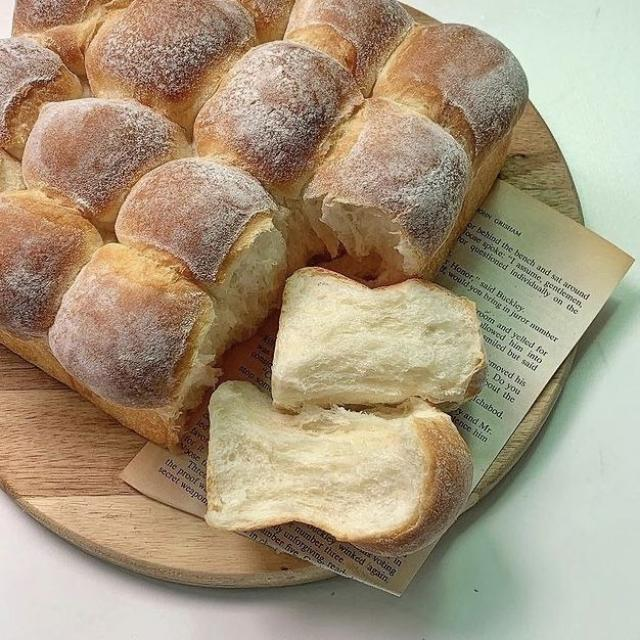bread: (0, 0, 526, 445), (306, 25, 527, 284), (206, 382, 472, 556), (374, 24, 528, 278), (116, 158, 288, 353), (304, 99, 471, 284), (271, 267, 485, 409), (50, 244, 216, 425), (195, 41, 362, 204), (23, 99, 189, 238), (86, 0, 256, 133), (374, 24, 527, 160), (0, 192, 102, 337), (286, 0, 413, 95), (0, 38, 81, 158), (13, 0, 130, 76), (239, 0, 294, 42), (0, 150, 24, 192)
